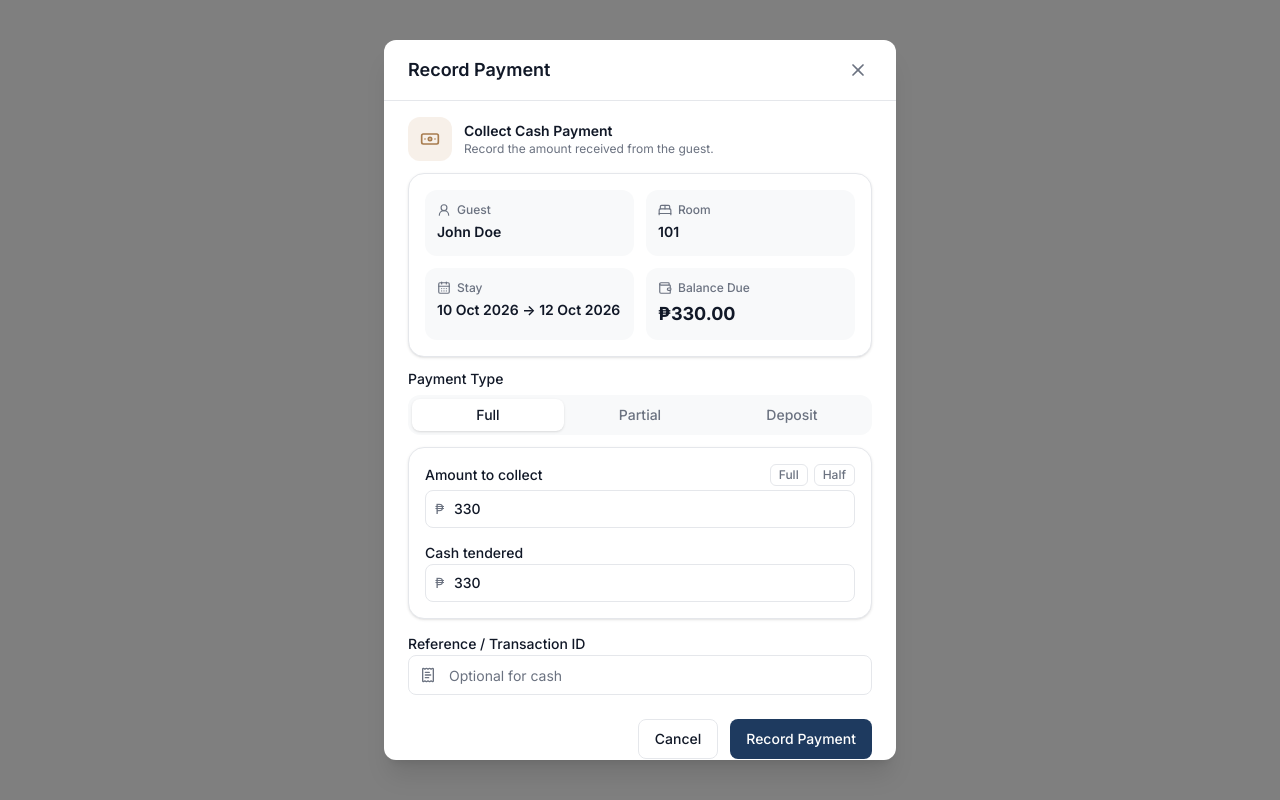
Scenario: PaymentModal › computes change due from the amount tendered
Replace the text in the number field named "Amount to collect" with "275" at (640, 509), box x1=425 y1=490 x2=855 y2=528
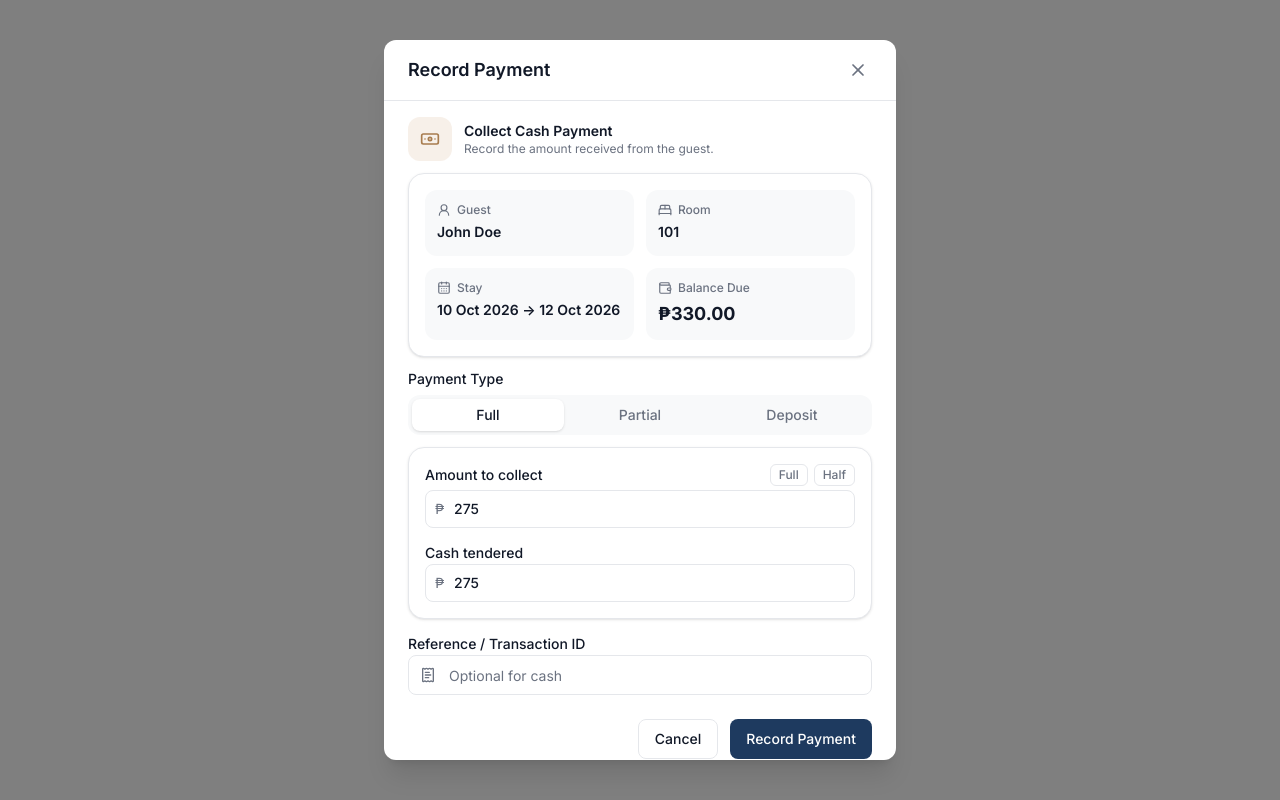
Replace the text in the number field named "Cash tendered" with "500" at (640, 583), box x1=425 y1=564 x2=855 y2=602
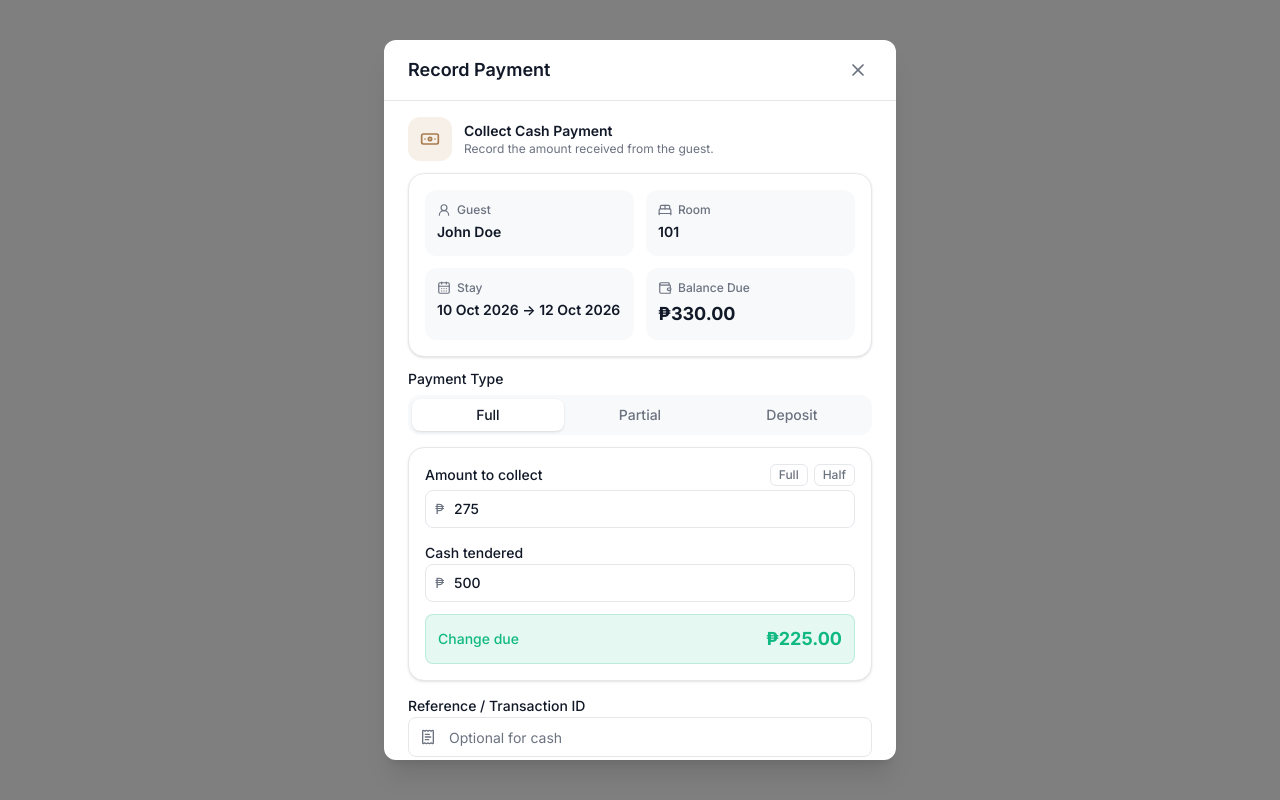
Expected: the text "Change due" is shown, x1=438 y1=629 x2=519 y2=649
Expected: the text "₱225.00" is shown, x1=766 y1=625 x2=842 y2=653
